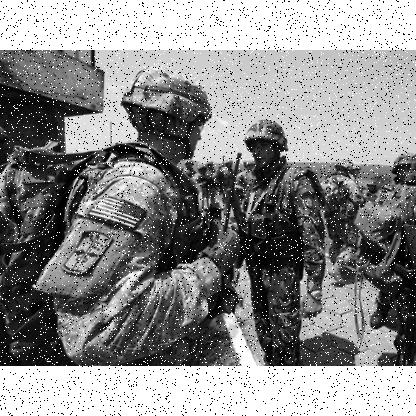gun: (231, 183, 263, 319)
